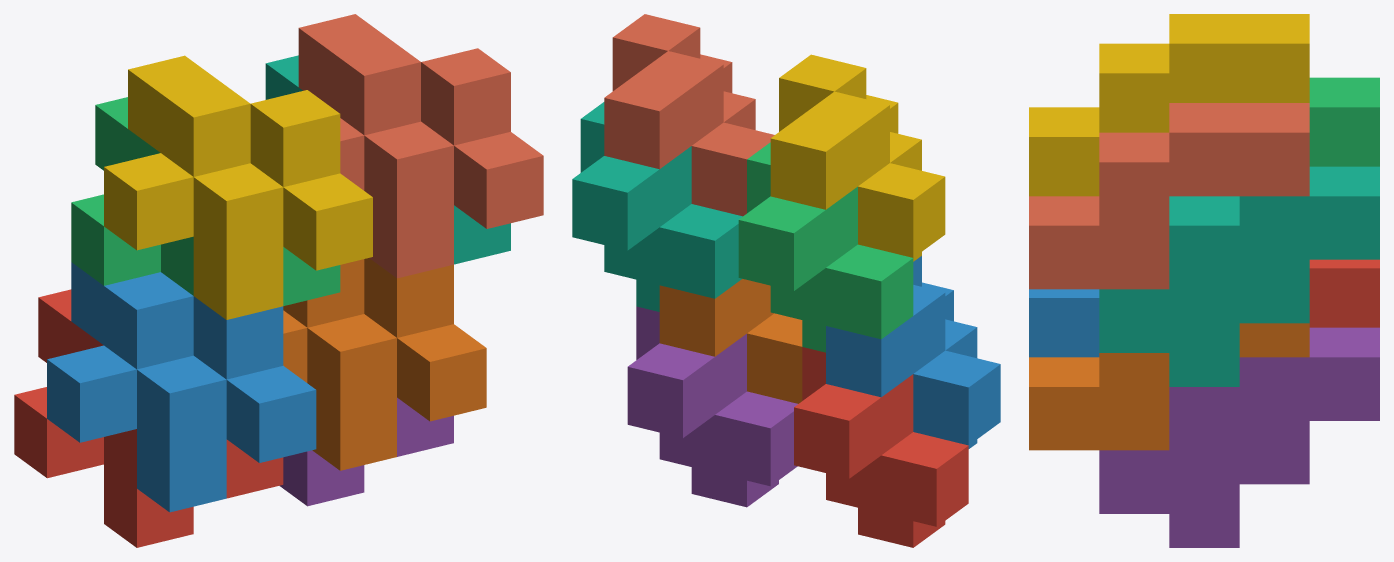
Rendered from tiling.obj.
3 views of the same model, side by side, from view 1: azimuth 30°, elevation 25°; view 2: azimuth 150°, elevation 25°; view 3: azimuth 270°, elevation 25° (orthographic). The views are drawn at different scales.
Parts seen in each view (by area): view 1: copy_1_domain_4, copy_1_domain_2, copy_1_domain_8, copy_1_domain_6, copy_1_domain_1, copy_1_domain_3, copy_1_domain_5, copy_1_domain_7; view 2: copy_1_domain_4, copy_1_domain_8, copy_1_domain_1, copy_1_domain_5, copy_1_domain_3, copy_1_domain_7, copy_1_domain_2, copy_1_domain_6; view 3: copy_1_domain_7, copy_1_domain_5, copy_1_domain_8, copy_1_domain_4, copy_1_domain_6, copy_1_domain_3, copy_1_domain_1, copy_1_domain_2.
Boxes of the visible parts, left/top/right/bottom form: copy_1_domain_4: left=104, top=55, right=372, bottom=319; copy_1_domain_2: left=47, top=262, right=316, bottom=512; copy_1_domain_8: left=298, top=14, right=543, bottom=278; copy_1_domain_6: left=283, top=258, right=486, bottom=470; copy_1_domain_1: left=14, top=289, right=283, bottom=547; copy_1_domain_3: left=71, top=97, right=340, bottom=305; copy_1_domain_5: left=279, top=397, right=453, bottom=506; copy_1_domain_7: left=265, top=55, right=510, bottom=264; copy_1_domain_4: left=770, top=54, right=945, bottom=261; copy_1_domain_8: left=604, top=14, right=774, bottom=216; copy_1_domain_1: left=794, top=347, right=968, bottom=547; copy_1_domain_5: left=627, top=306, right=797, bottom=507; copy_1_domain_3: left=738, top=142, right=913, bottom=352; copy_1_domain_7: left=572, top=102, right=742, bottom=311; copy_1_domain_2: left=826, top=256, right=1000, bottom=448; copy_1_domain_6: left=659, top=279, right=802, bottom=403; copy_1_domain_7: left=1099, top=166, right=1379, bottom=386; copy_1_domain_5: left=1099, top=327, right=1379, bottom=547; copy_1_domain_8: left=1029, top=103, right=1309, bottom=289; copy_1_domain_4: left=1029, top=14, right=1309, bottom=196; copy_1_domain_6: left=1029, top=323, right=1309, bottom=450; copy_1_domain_3: left=1309, top=77, right=1379, bottom=166; copy_1_domain_1: left=1309, top=259, right=1379, bottom=327; copy_1_domain_2: left=1029, top=289, right=1099, bottom=357.
Bounding box in the file's own units: 7 × 7 × 5.
